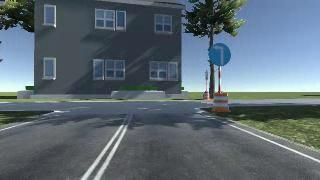turn_left: (209, 44, 230, 66)
